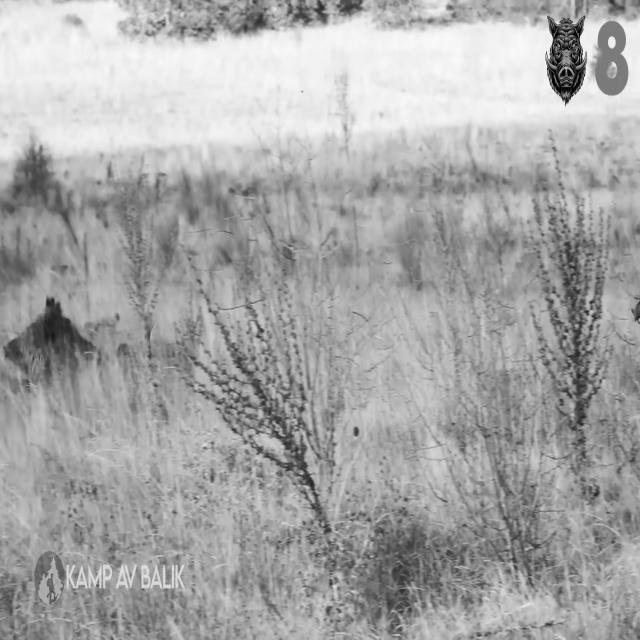boar: (3, 296, 96, 379), (545, 14, 586, 104)
